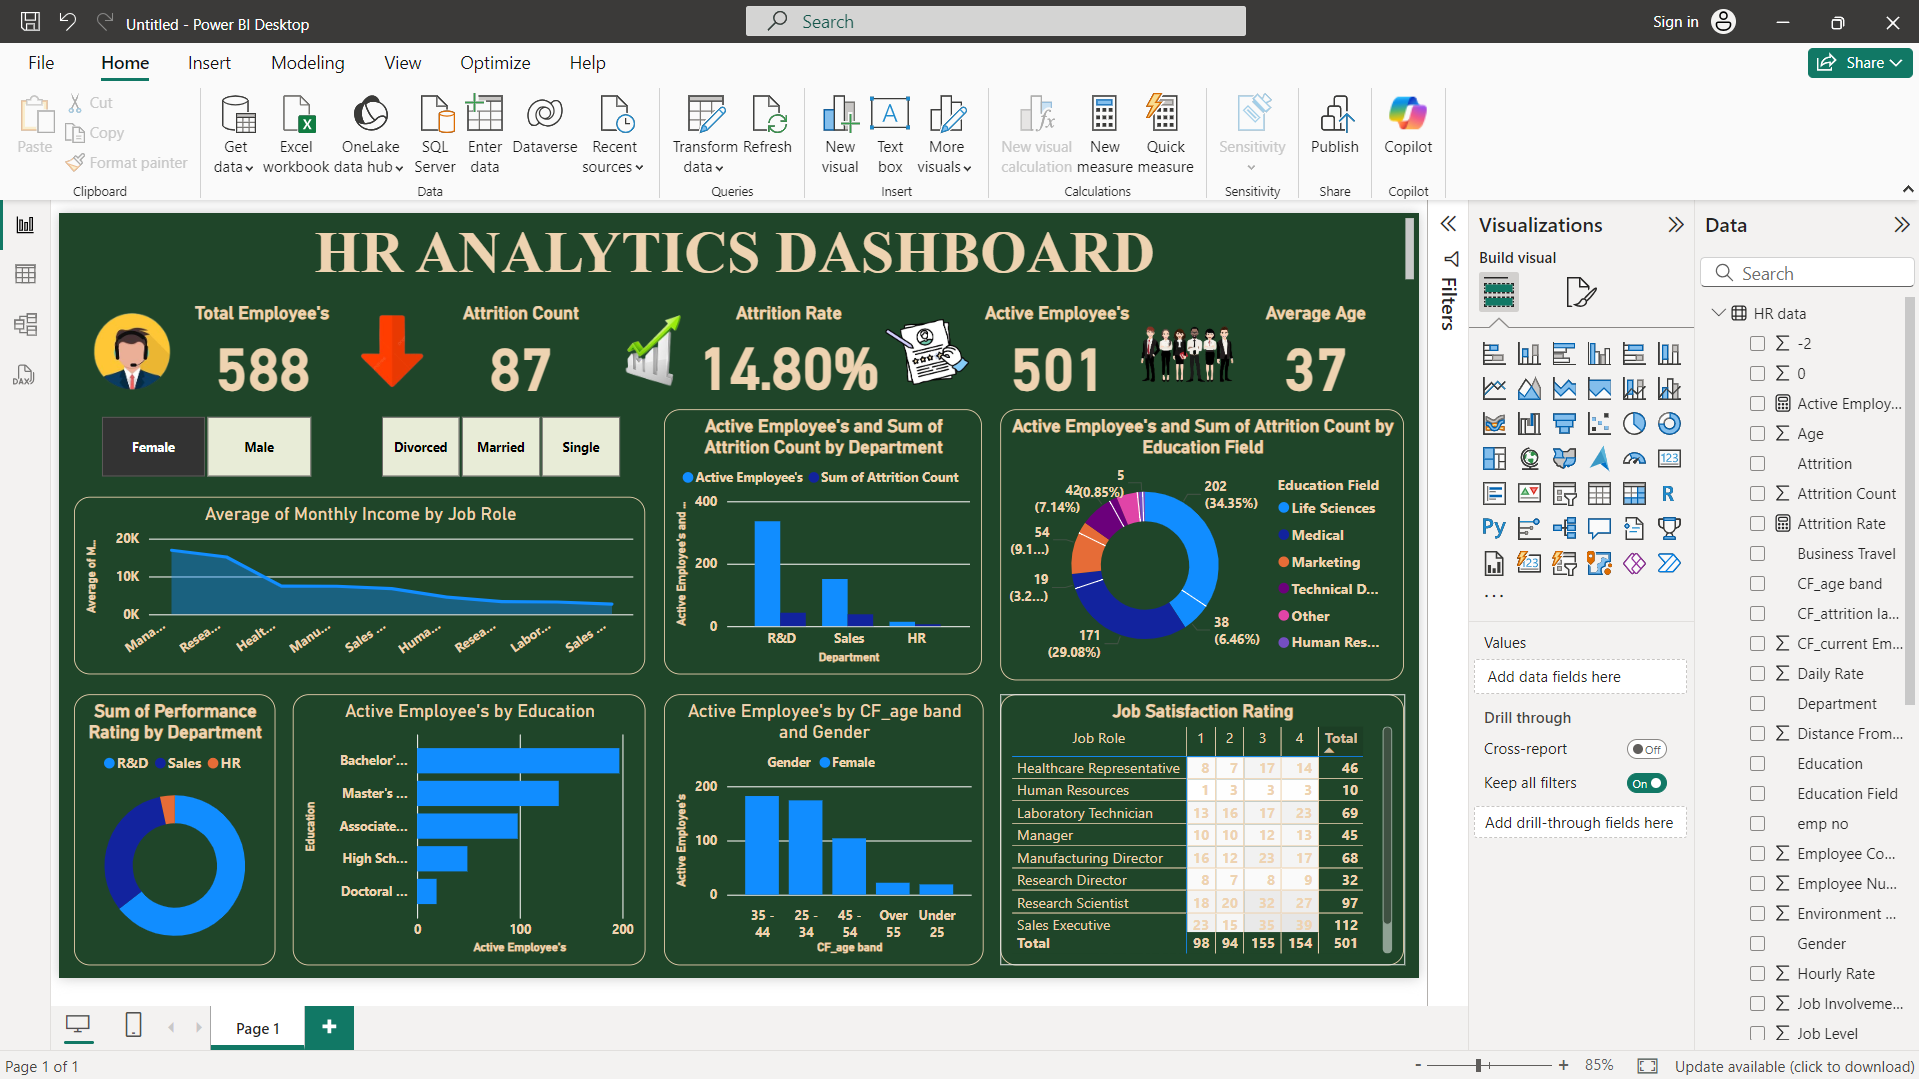

The page's visual inventory and layout, read from the dashboard file:
{"tool":"powerbi","page":{"name":"Page 1","canvas":[1280,720],"ordinal":0},"visuals":[{"type":"card","title":"Total Employee''s","fields":{"Values":["Sum(HR data.Employee Count)"]},"box":[108.2,83.1,166,94.7],"z":0},{"type":"clusteredColumnChart","fields":{"Category":["HR data.Department"],"Y":["HR data.Active Employee's","Sum(HR data.Attrition Count)"]},"box":[569.5,185.2,299.1,249.7],"z":0},{"type":"card","title":"Average Age","fields":{"Values":["Avg(HR data.Age)"]},"box":[1100.5,83.1,166,94.7],"z":1000},{"type":"donutChart","fields":{"Y":["HR data.Active Employee's","Sum(HR data.Attrition Count)"],"Category":["HR data.Education Field"]},"box":[886.5,185.2,380.1,255.2],"z":1000},{"type":"card","title":"Active Employee''s","fields":{"Values":["HR data.Active Employee's"]},"box":[856.8,83.1,166,94.7],"z":2000},{"type":"columnChart","fields":{"Y":["HR data.Active Employee's"],"Category":["HR data.CF_age band"],"Series":["HR data.Gender"]},"box":[569.5,452.8,300.5,255.2],"z":2000},{"type":"card","title":"Attrition Rate","fields":{"Values":["HR data.Attrition Rate"]},"box":[595.7,83.4,183.5,94.1],"z":3000},{"type":"pivotTable","title":"Job Satisfaction Rating","fields":{"Rows":["HR data.Job Role"],"Columns":["HR data.Job Satisfaction"],"Values":["HR data.Active Employee's"]},"box":[886.5,452.8,380.1,255.2],"z":3000},{"type":"card","title":"Attrition Count","fields":{"Values":["Sum(HR data.Attrition Count)"]},"box":[351.9,83.1,166,94.7],"z":4000},{"type":"donutChart","fields":{"Y":["Sum(HR data.Performance Rating)"],"Category":["HR data.Department"]},"box":[13.7,452.8,189.4,255.2],"z":4000},{"type":"clusteredBarChart","fields":{"Category":["HR data.Education"],"Y":["HR data.Active Employee's"]},"box":[219.6,452.8,332.1,255.2],"z":5000},{"type":"areaChart","fields":{"Category":["HR data.Job Role"],"Y":["Avg(HR data.Monthly Income)"]},"box":[13.7,267.6,537.9,167.4],"z":6000},{"type":"slicer","fields":{"Values":["HR data.Gender"]},"box":[13.7,185.2,247,70],"z":7000},{"type":"slicer","fields":{"Values":["HR data.Marital Status"]},"box":[277.2,185.2,274.4,70],"z":8000},{"type":"image","box":[768,79.9,100,101.2],"z":10000},{"type":"image","box":[263,80.4,100.2,100.2],"z":11000},{"type":"image","box":[1011.6,80.4,100.2,100.2],"z":12000},{"type":"image","box":[506.7,80.4,100.2,100.2],"z":13000},{"type":"image","box":[19.2,80.4,100.2,100.2],"z":14000},{"type":"textbox","box":[0,0,1280.3,78.2],"z":15000}]}

Visuals, with their boxes on the page's 1280x720 design canvas (x1, y1, x2, y2). These are canvas units, not pixel positions in the 1919x1079 screenshot, which may show the page scaled, cropped or inside an application window:
"Total Employee''s" card: crop(108, 83, 274, 178)
clusteredColumnChart - HR data.Department x HR data.Active Employee's: crop(570, 185, 869, 435)
"Average Age" card: crop(1100, 83, 1266, 178)
donutChart - HR data.Active Employee's x Sum(HR data.Attrition Count): crop(886, 185, 1267, 440)
"Active Employee''s" card: crop(857, 83, 1023, 178)
columnChart - HR data.Active Employee's x HR data.CF_age band: crop(570, 453, 870, 708)
"Attrition Rate" card: crop(596, 83, 779, 178)
"Job Satisfaction Rating" pivotTable: crop(886, 453, 1267, 708)
"Attrition Count" card: crop(352, 83, 518, 178)
donutChart - Sum(HR data.Performance Rating) x HR data.Department: crop(14, 453, 203, 708)
clusteredBarChart - HR data.Education x HR data.Active Employee's: crop(220, 453, 552, 708)
areaChart - HR data.Job Role x Avg(HR data.Monthly Income): crop(14, 268, 552, 435)
slicer - HR data.Gender: crop(14, 185, 261, 255)
slicer - HR data.Marital Status: crop(277, 185, 552, 255)
image: crop(768, 80, 868, 181)
image: crop(263, 80, 363, 181)
image: crop(1012, 80, 1112, 181)
image: crop(507, 80, 607, 181)
image: crop(19, 80, 119, 181)
textbox: crop(0, 0, 1280, 78)
